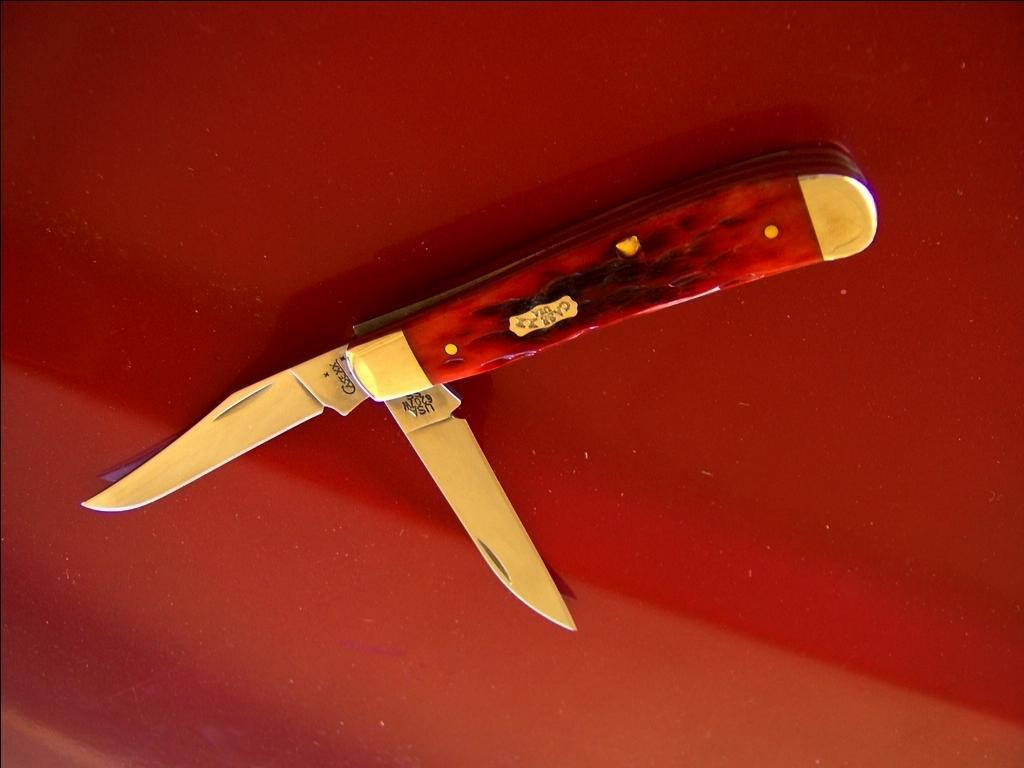melee: (77, 117, 887, 637)
